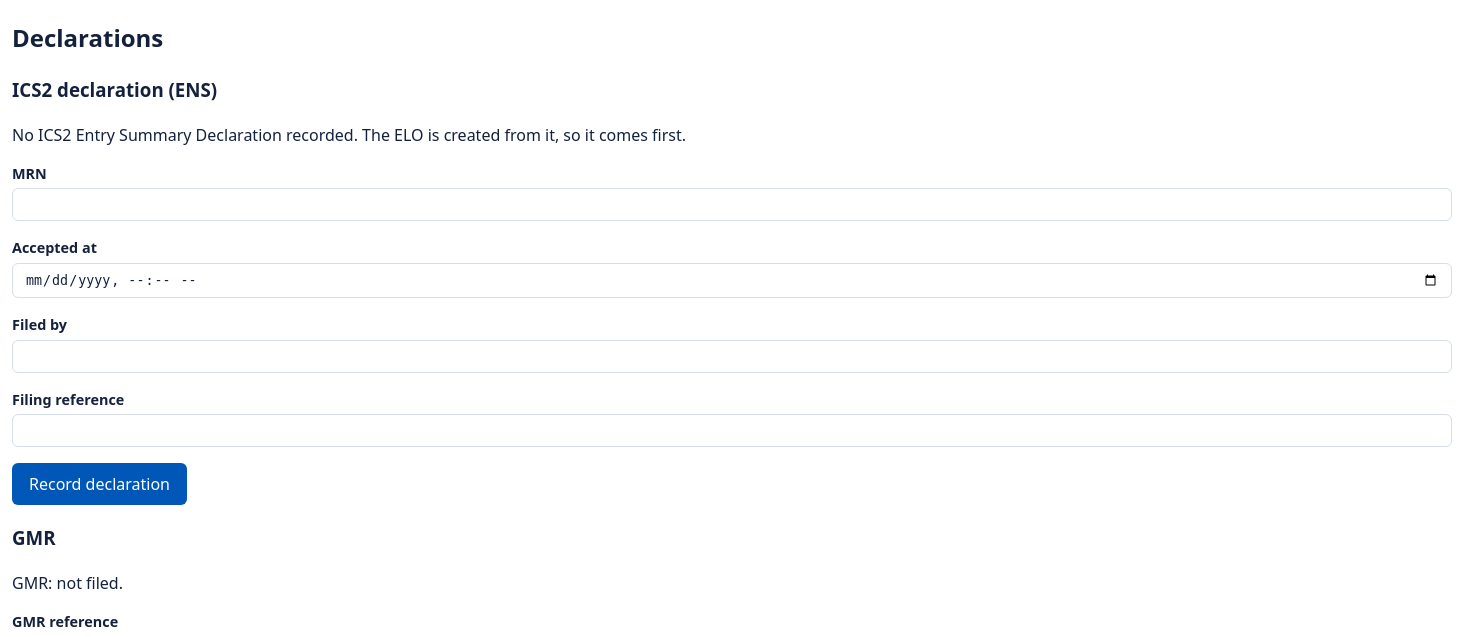
Test: a malformed MRN is refused before anything is sent
Step 1. Type "not-an-mrn" into the field labelled "MRN" → (732, 205), box x1=12 y1=188 x2=1452 y2=221
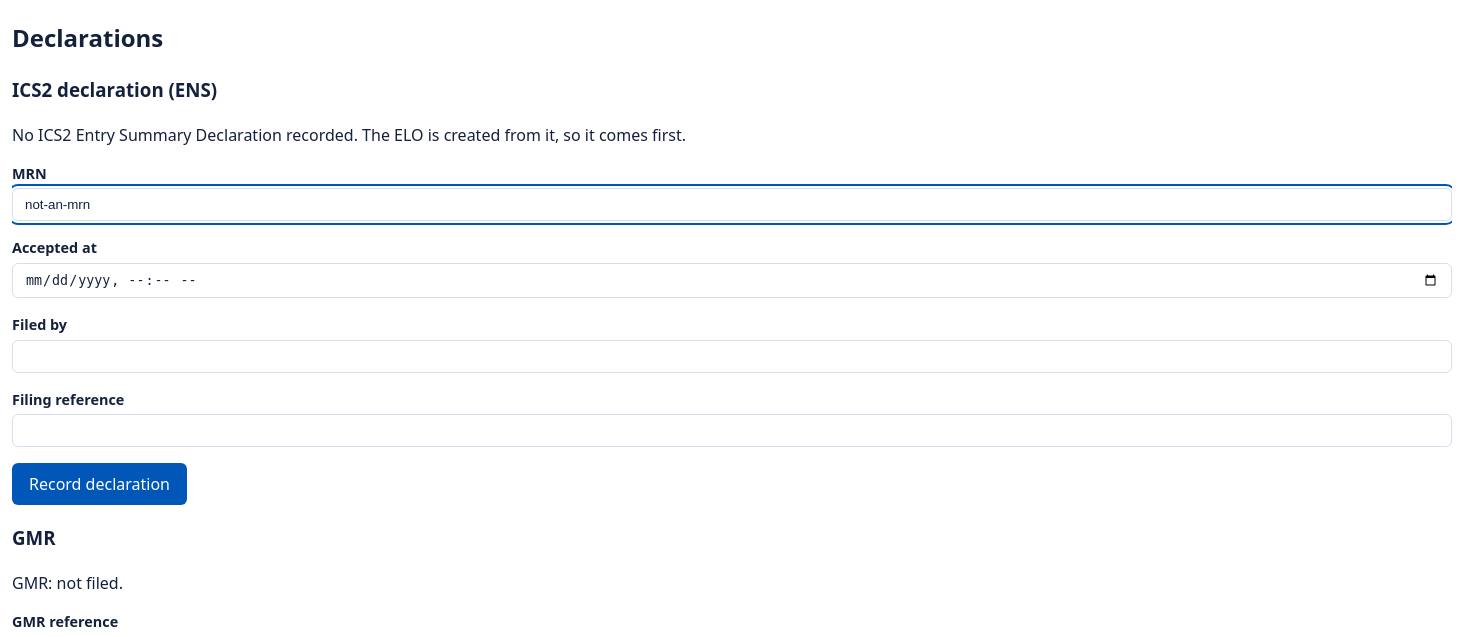
Step 2. Type "2026-08-24T09:30" into the field labelled "Accepted at" → (732, 280), box x1=12 y1=263 x2=1452 y2=298
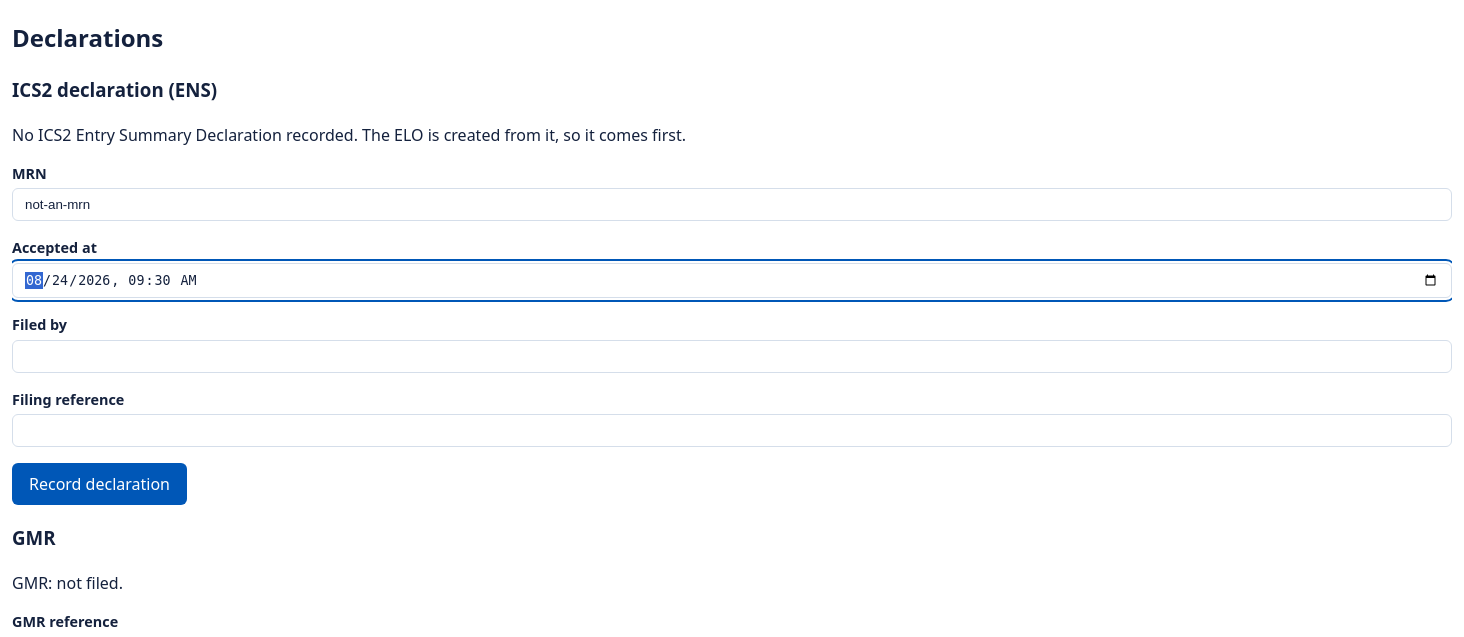
Step 3. Type "groundofficer" into the field labelled "Filed by" → (732, 356), box x1=12 y1=340 x2=1452 y2=373
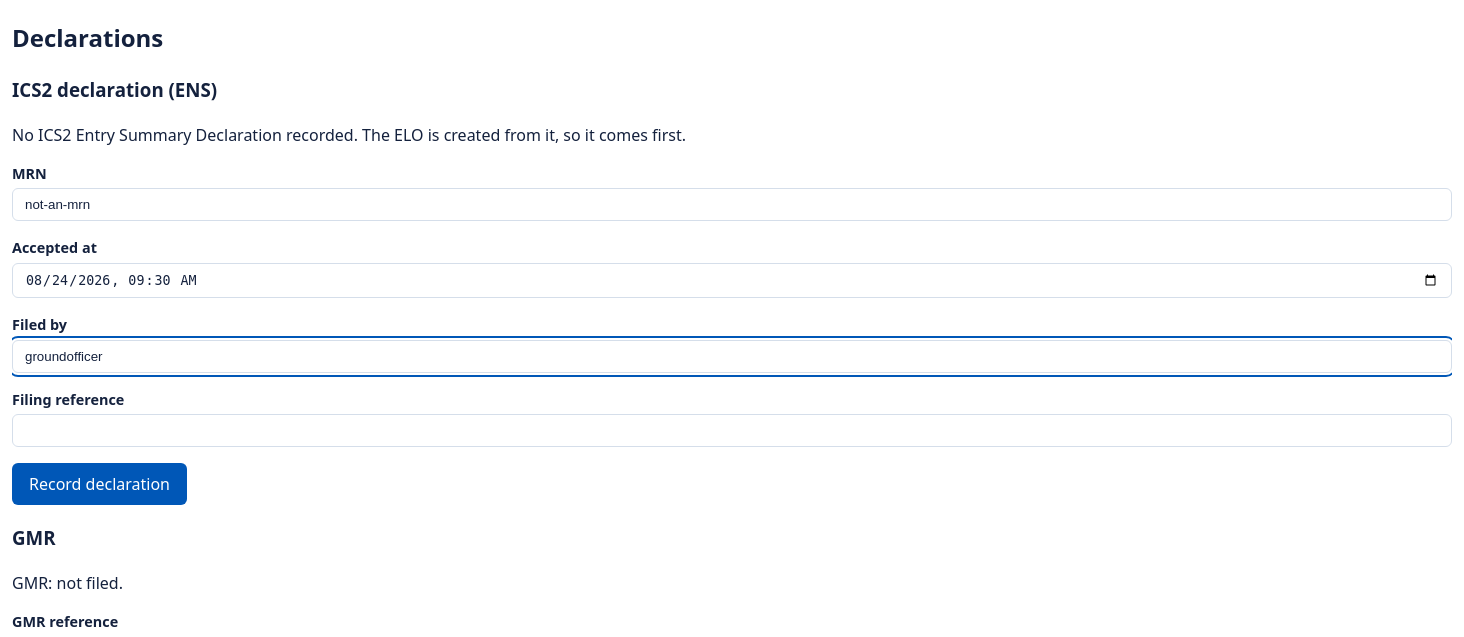
Step 4. Click the button "Record declaration" → click(100, 484), box x1=12 y1=463 x2=187 y2=505
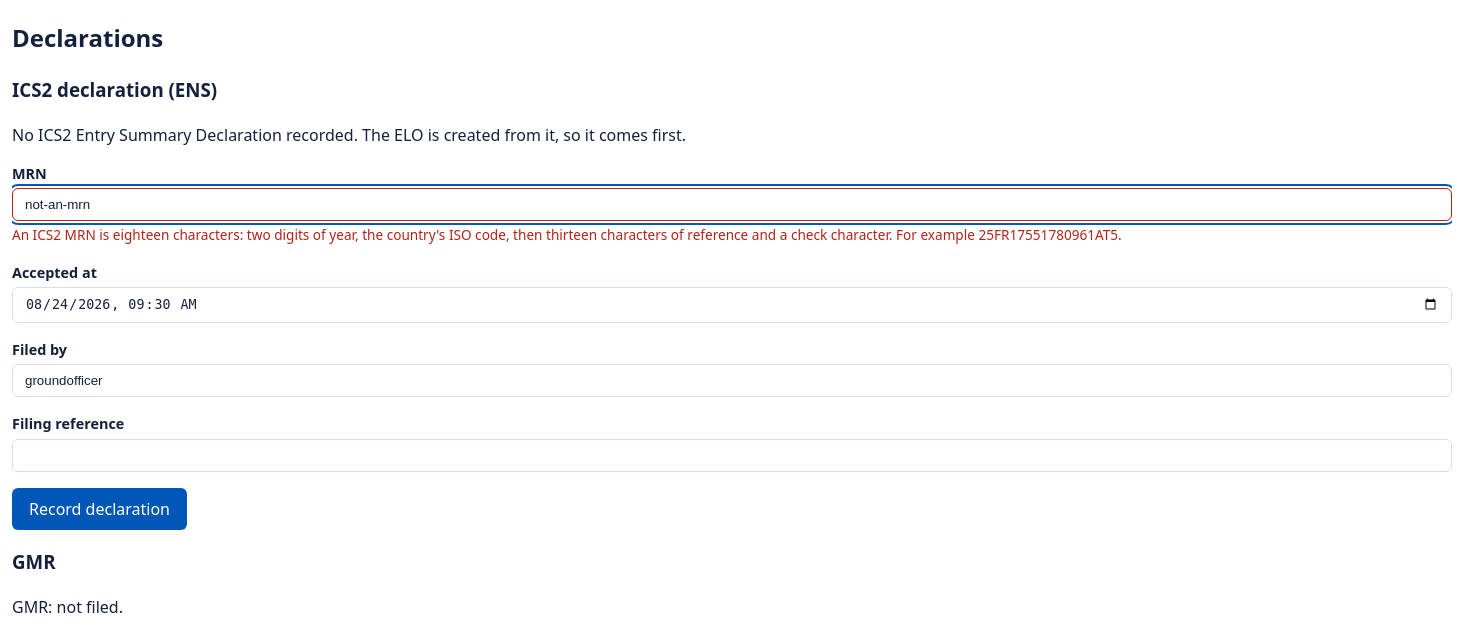
Result: the text "eighteen characters" is shown at x1=12 y1=225 x2=1122 y2=244
